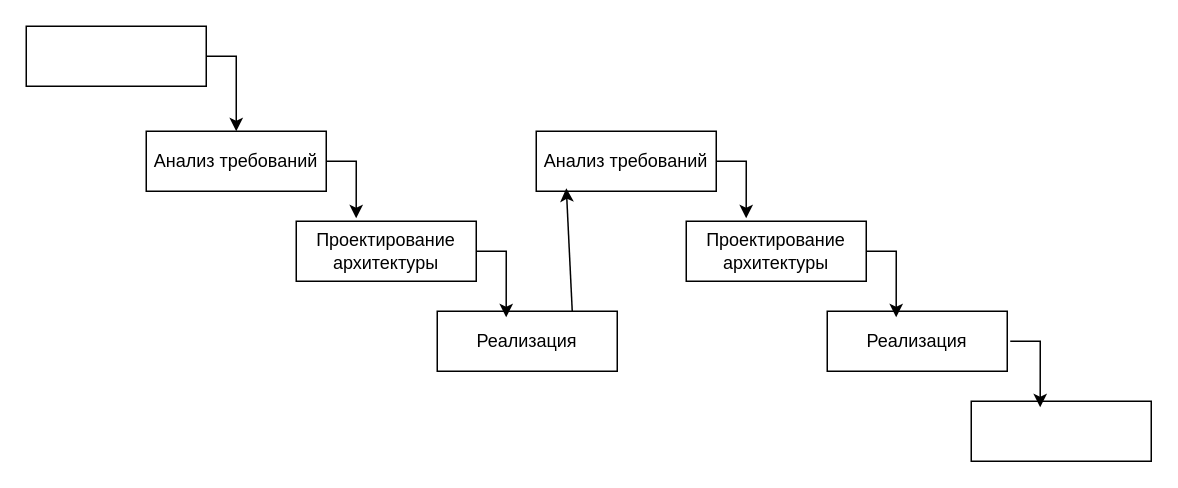
The diagram is 1178 pixels wide and 488 high, and some of its shapes have lost their labels. Each missing label, with the centre of its shape:
"Определение требований" goes at point 115,55.
"Эксплуатация" goes at point 1060,430.
